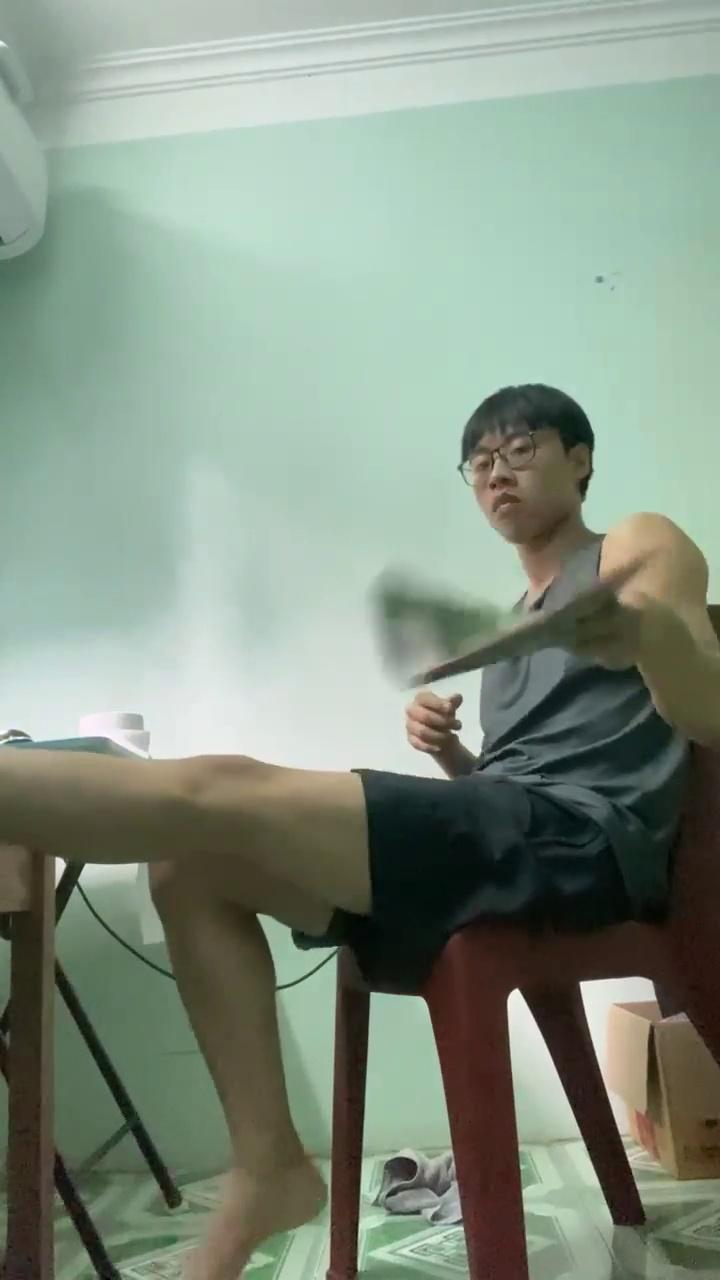BadPosture: (0, 737, 613, 1273)
